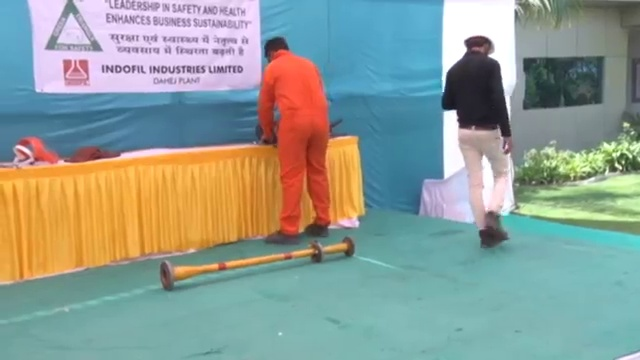helmet: (461, 21, 497, 53)
helmet_off: (263, 37, 291, 62)
helmet_on: (460, 21, 499, 58)
person: (444, 21, 515, 251), (259, 36, 333, 240)
